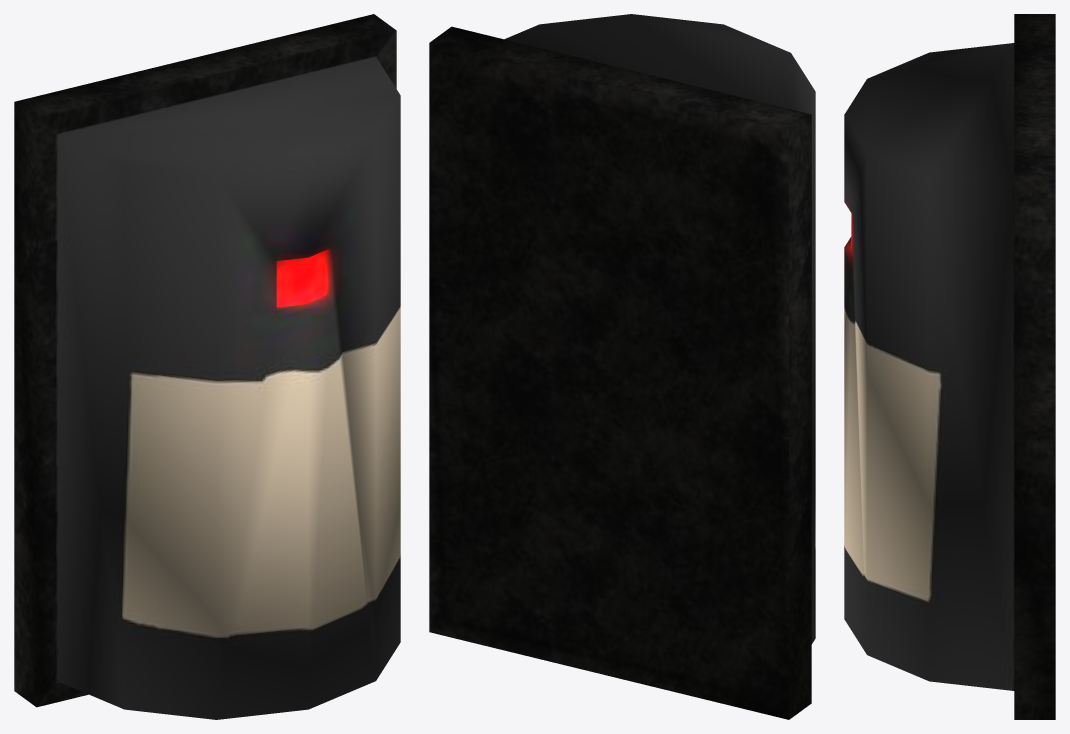
The model's file is motion_sensor.glb.
The picture shows the model from 3 angles, left to right: view 1: azimuth 30°, elevation 25°; view 2: azimuth 150°, elevation 25°; view 3: azimuth 270°, elevation 25°; orthographic projection. The views are drawn at different scales.
Visible parts, largest first — view 1: motion_sensor; view 2: motion_sensor; view 3: motion_sensor.
Boxes of the visible parts, x1,y1,x2,y2 form: motion_sensor: (14,14,400,719); motion_sensor: (429,14,815,719); motion_sensor: (844,14,1055,719).
Size of the model in its own units: 0.0633 by 0.099 by 0.0349.
Materials: 1 (1 with a texture image).
